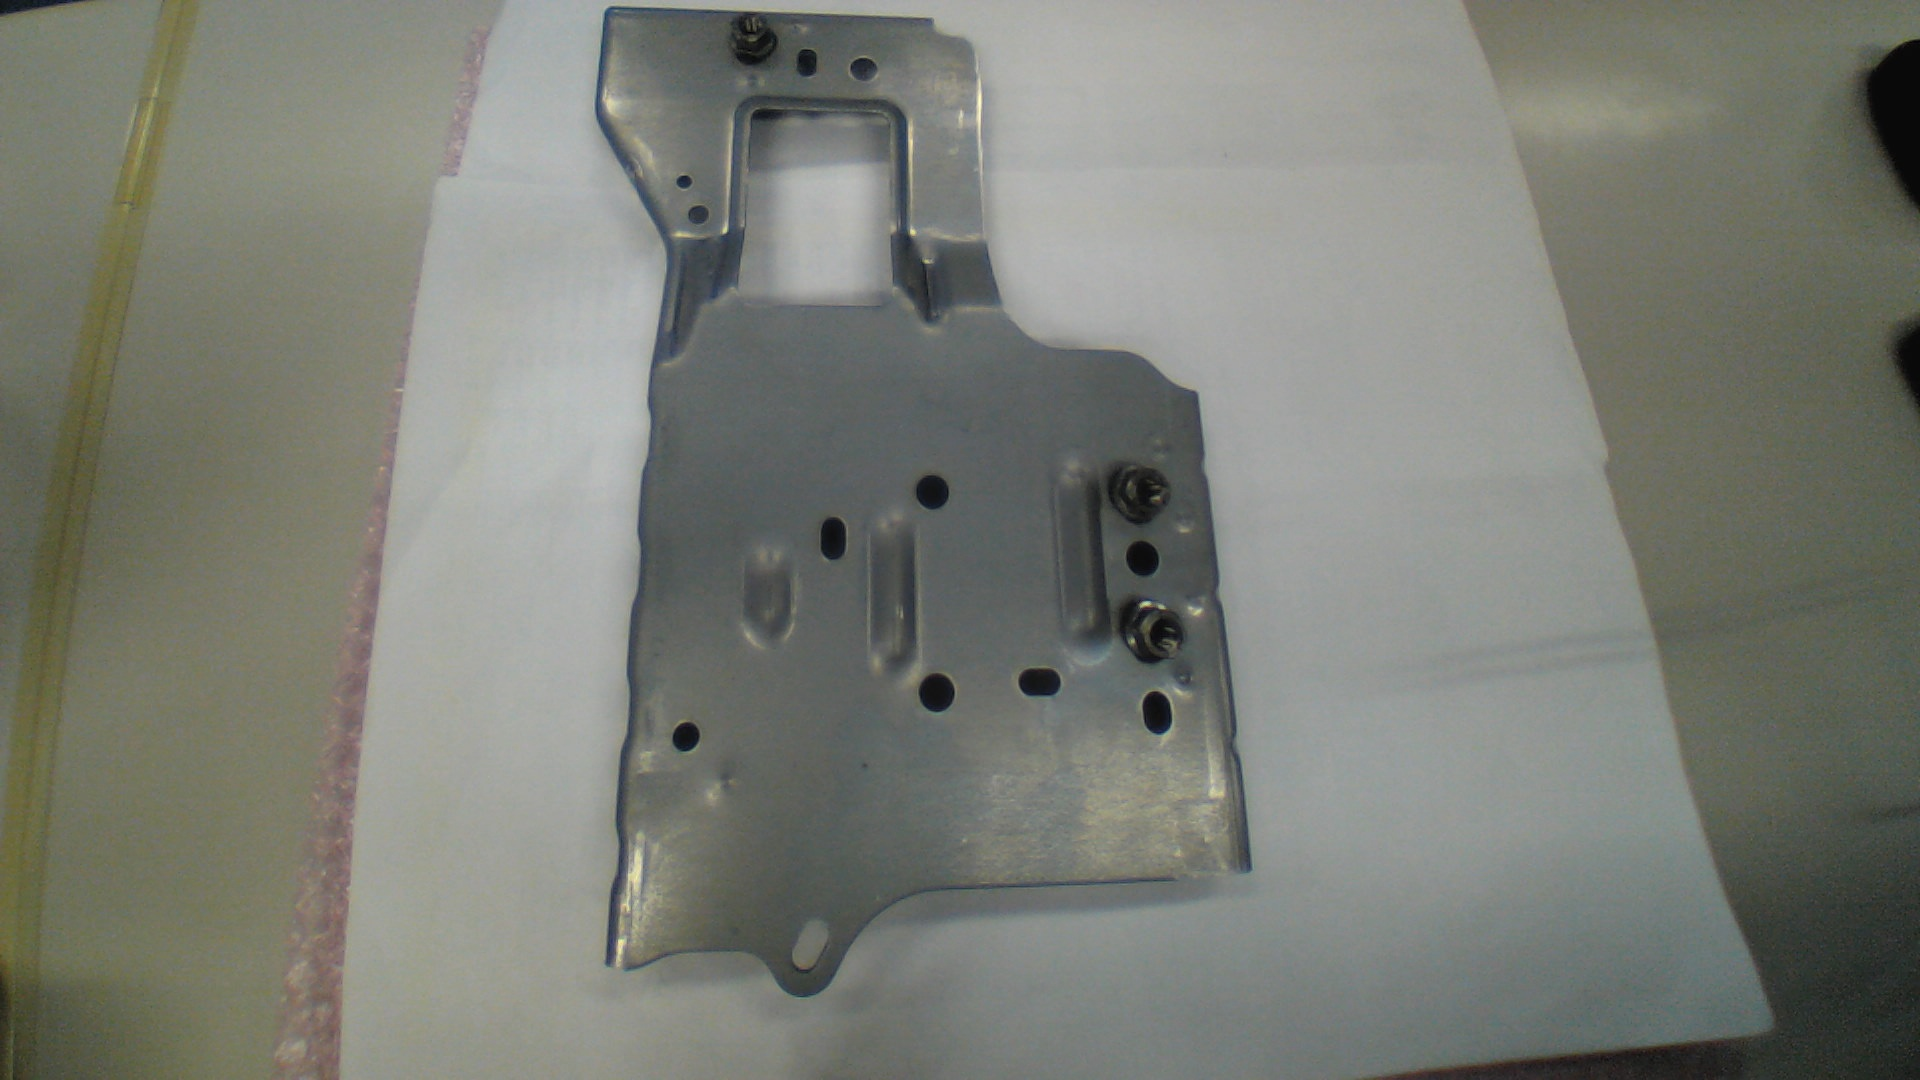dog: (1120, 593, 1189, 666), (1106, 462, 1174, 526), (731, 12, 778, 67)
